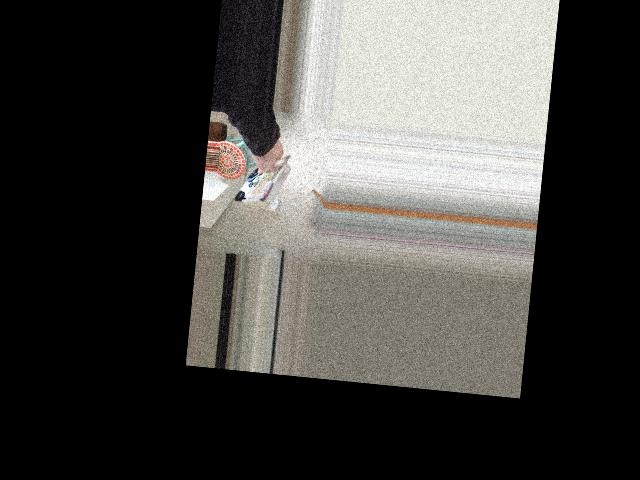cheese: (224, 136, 299, 213)
